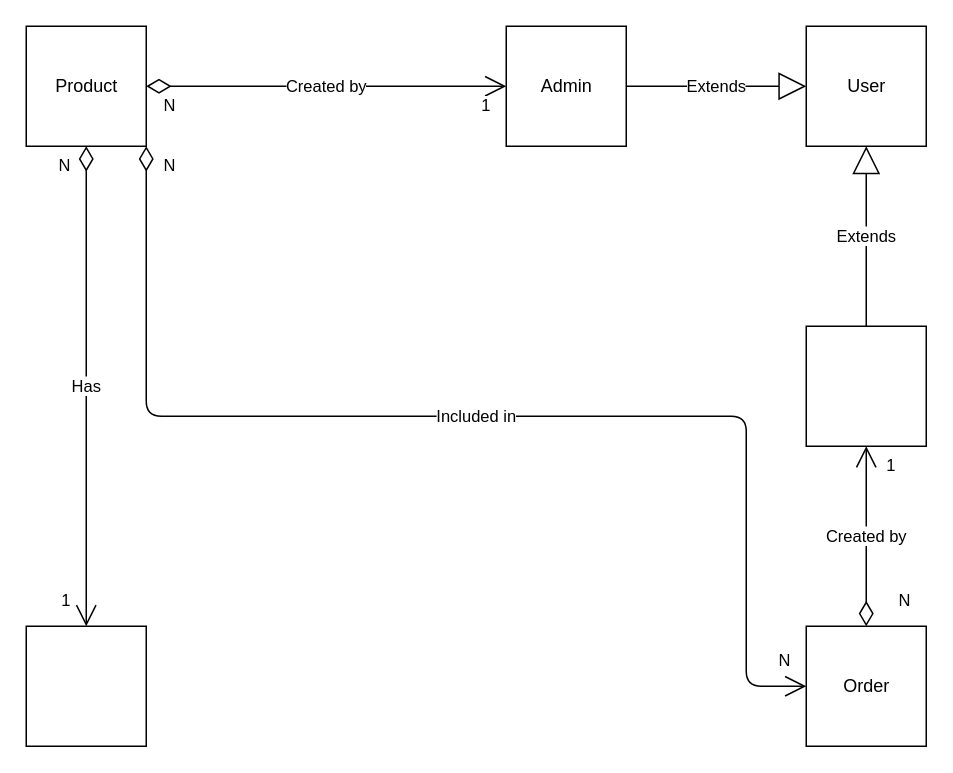
Image size: 953x773. Some labels were removed from this diagram. The shapes that lost their labels are listed below. From the top down, each one's centre as x and y in pixels, then its label:
At [865,385]: "End user".
At [85,685]: "Category".
